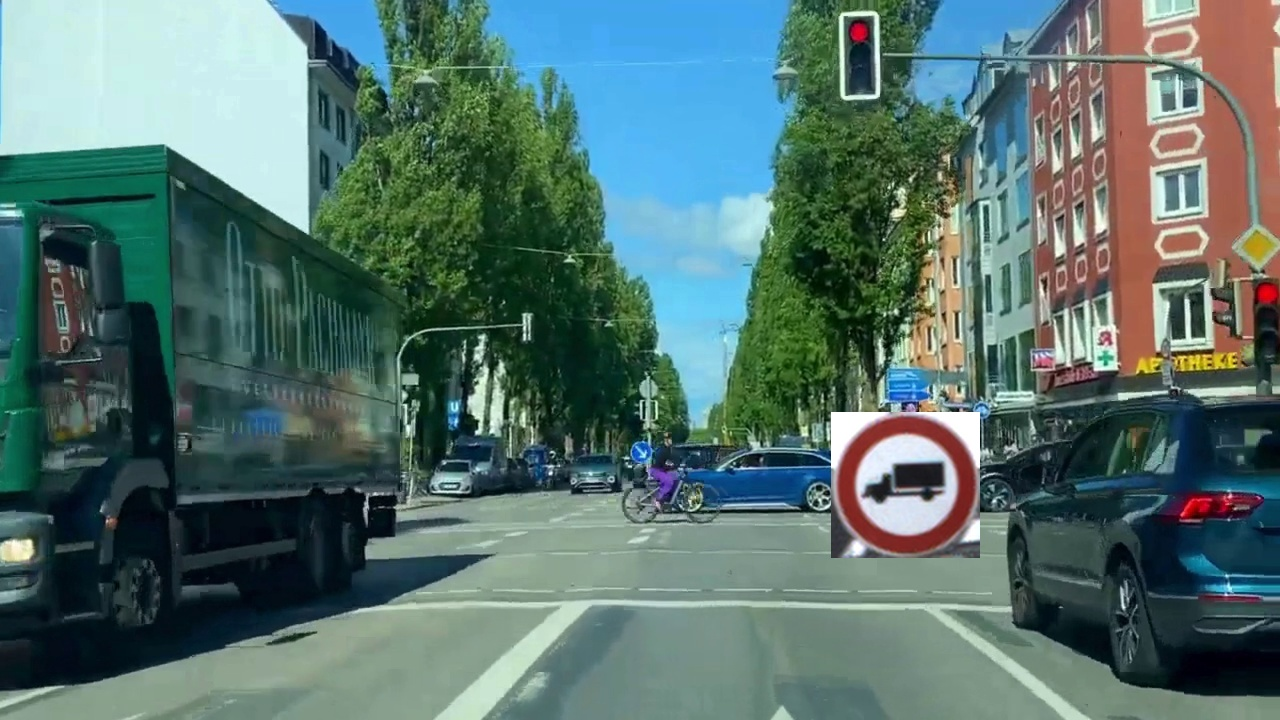Veh >3.5t prohib: (831, 412, 980, 558)
